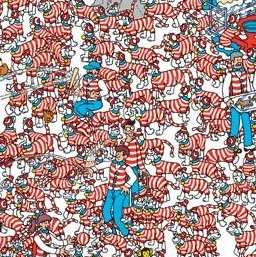waldo: (122, 119, 147, 168), (120, 117, 135, 140)
